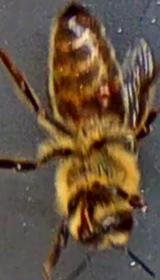varroa_mite: (90, 80, 116, 106)
